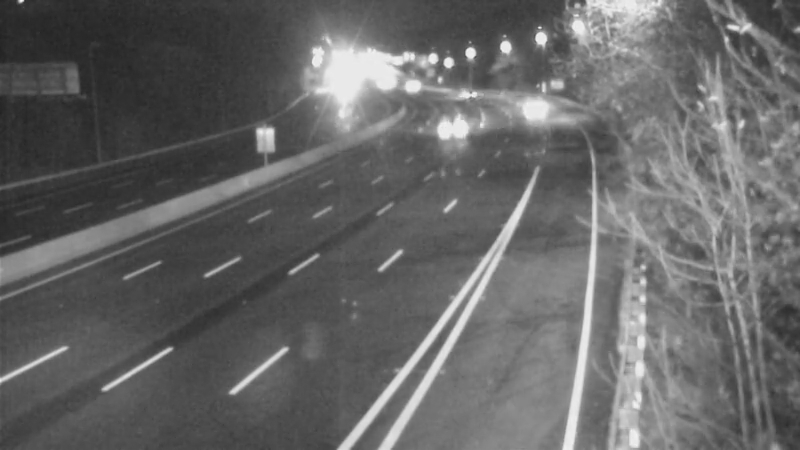vehicle: (384, 61, 434, 111), (448, 70, 498, 120), (509, 80, 559, 130), (418, 103, 468, 153)
